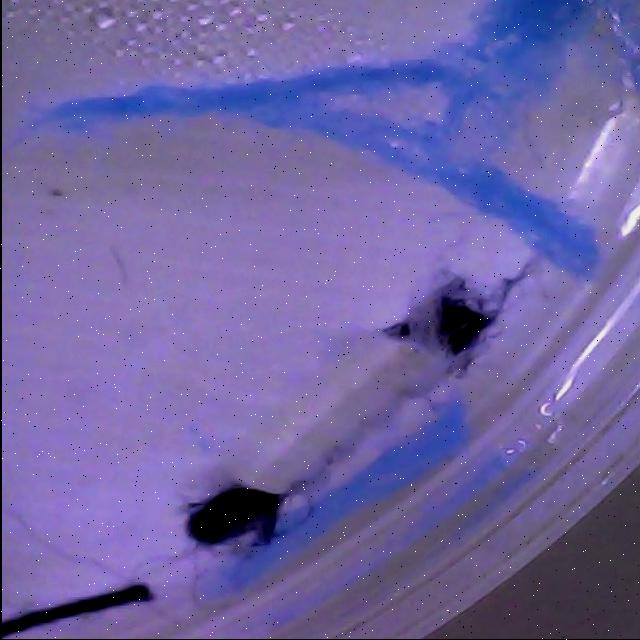Fibre: (0, 496, 136, 588)
